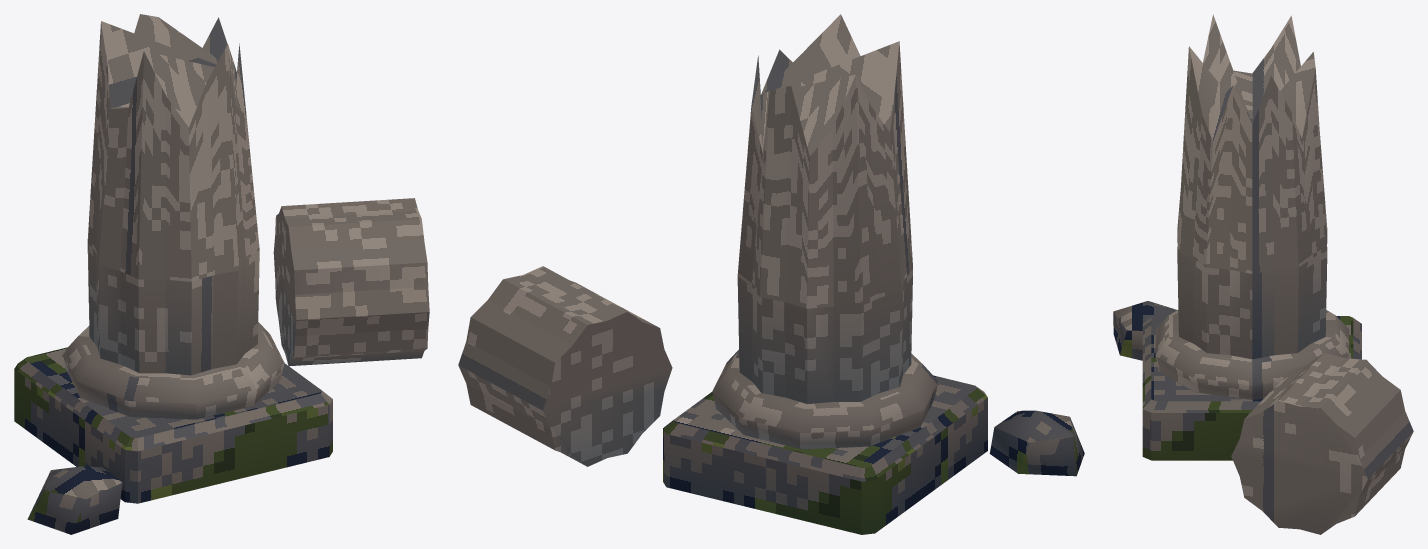
File: tmpl.column__broken.glb
The picture shows the model from 3 angles, left to right: view 1: azimuth 30°, elevation 25°; view 2: azimuth 150°, elevation 25°; view 3: azimuth 270°, elevation 25°; orthographic projection. The views are drawn at different scales.
Visible parts, largest first — view 1: kit_shaft, kit_base, kit_fallen; view 2: kit_shaft, kit_base, kit_fallen; view 3: kit_shaft, kit_fallen, kit_base.
Part boxes in pixels (x1,y1,x2,y2): kit_shaft: (87,14,259,375); kit_base: (14,322,332,503); kit_fallen: (27,198,429,534); kit_shaft: (737,14,912,404); kit_base: (663,350,987,534); kit_fallen: (458,266,1084,476); kit_shaft: (1177,14,1327,359); kit_fallen: (1113,301,1413,534); kit_base: (1142,310,1361,460).
Bounding box in the file's own units: 2.96 × 2.37 × 1.71.
2 materials, 2 textured.
